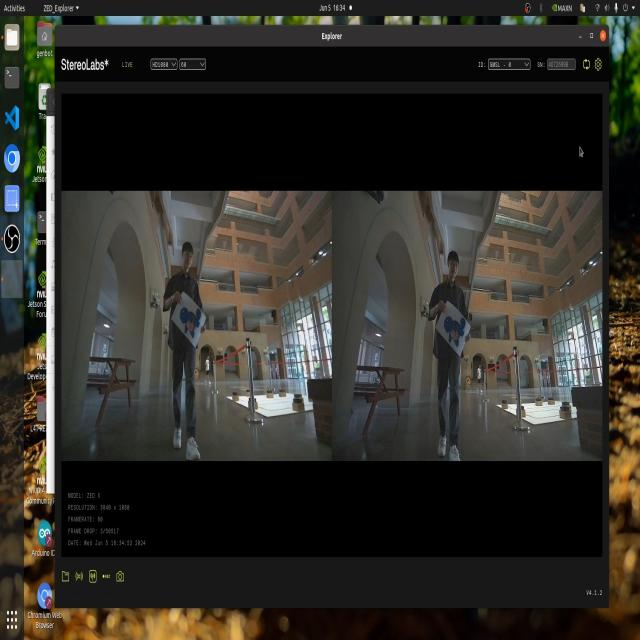blue: (440, 304, 469, 356), (178, 297, 204, 345)
